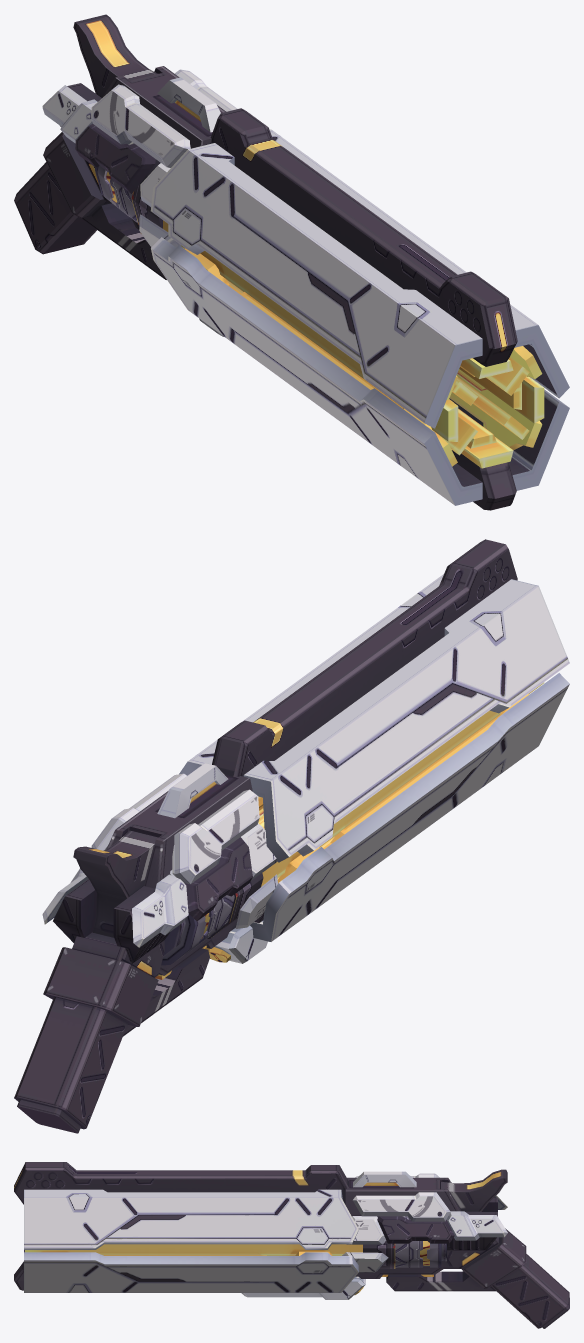
Rendered from Perkins2.obj.
3 views of the same model, one above another, from view 1: azimuth 30°, elevation 25°; view 2: azimuth 150°, elevation 25°; view 3: azimuth 270°, elevation 25° (orthographic). The views are drawn at different scales.
Bounding box in the file's own units: 8.06 × 14.13 × 44.9.
1 material, 1 textured.
